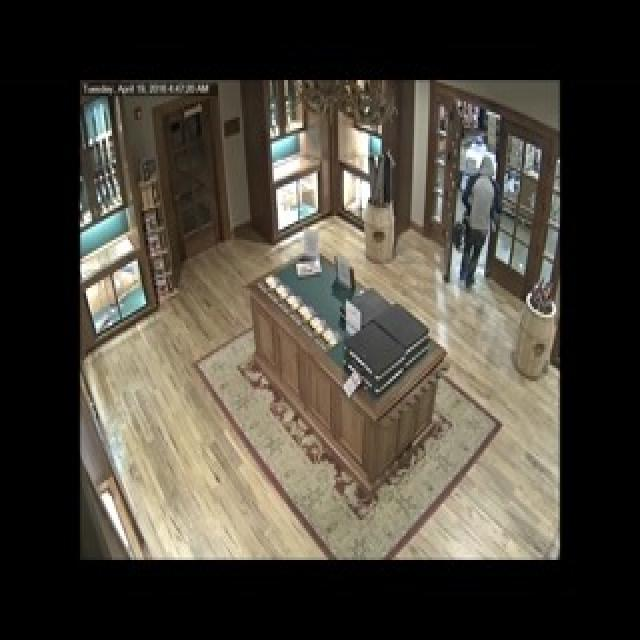thief: (464, 150, 494, 285)
